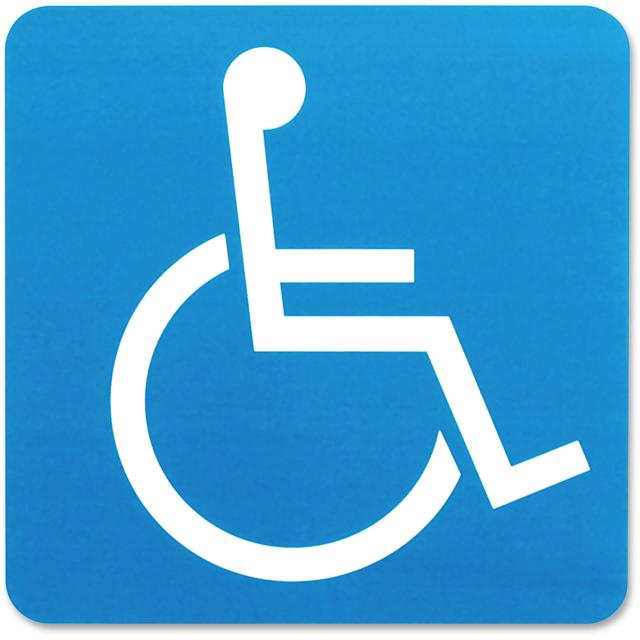symbol_of_access: (64, 26, 606, 588)
